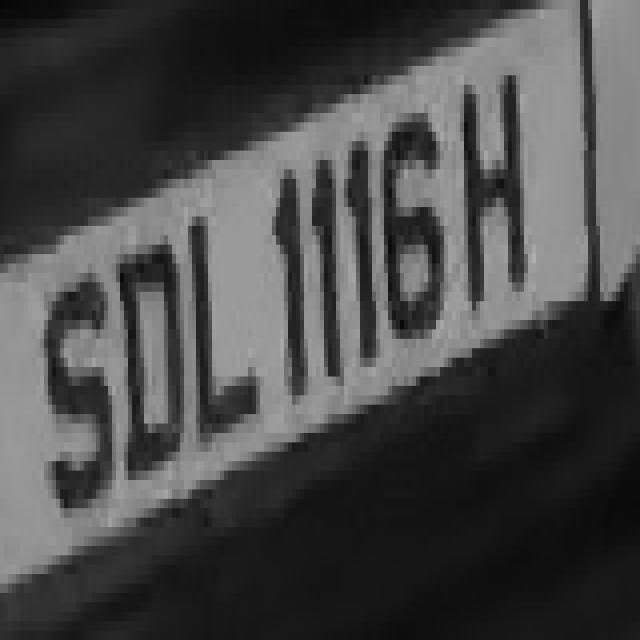1: (264, 141, 312, 461), (340, 85, 388, 395), (304, 122, 348, 424)
6: (376, 94, 448, 367)
D: (104, 216, 184, 499)
H: (456, 47, 532, 329)
L: (184, 198, 264, 461)
S: (32, 264, 120, 556)
